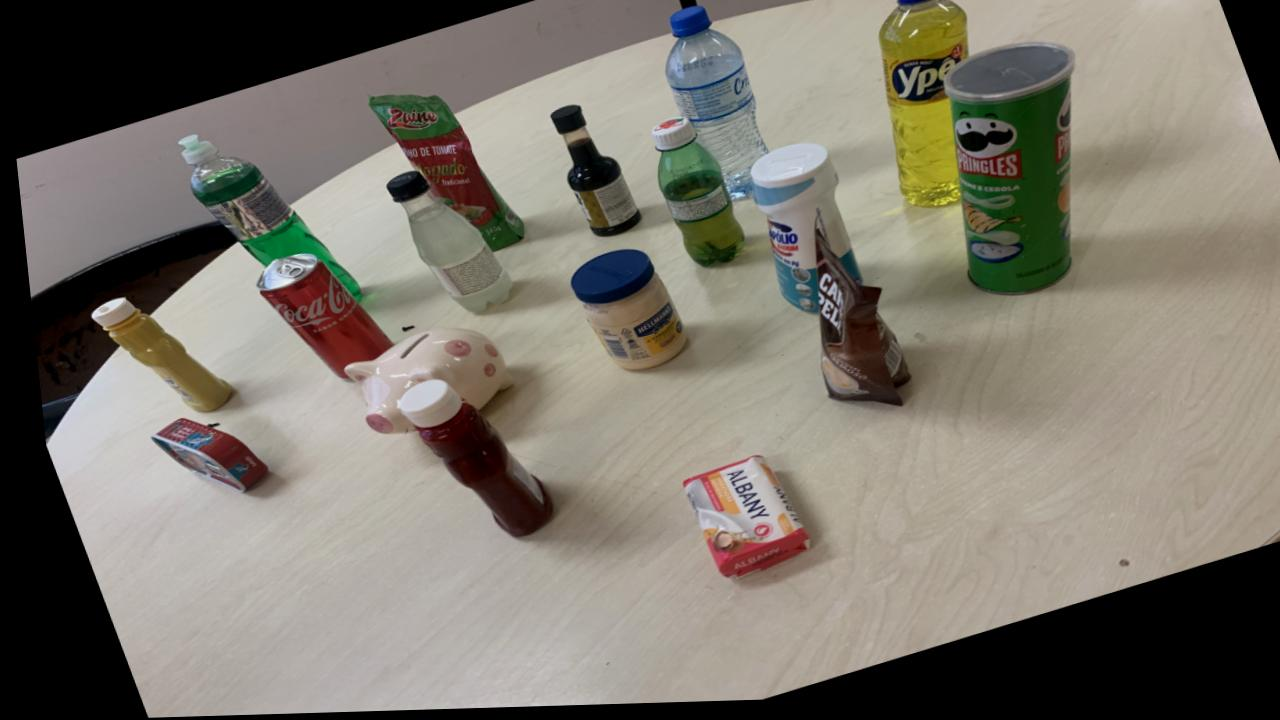Cleaner-Cleanup_Items: (747, 148, 854, 318)
Coffee-Pantry_Items: (809, 237, 902, 411)
Coke-Drinks: (251, 255, 385, 382), (227, 218, 229, 222)
Detergent-Cleanup_Items: (945, 49, 1071, 301), (176, 137, 355, 300), (877, 0, 967, 212)
English_Sauce-Pantry_Items: (560, 129, 636, 240), (551, 109, 578, 129)
Guarana-Drinks: (650, 122, 739, 271), (697, 495, 702, 499), (720, 525, 722, 526)
Ketchup-Pantry_Items: (388, 382, 542, 539)
Mayonnaise-Pantry_Items: (564, 252, 679, 374)
Mustard-Pantry_Items: (85, 298, 224, 412)
Pig_Safe-Miscellaneous: (336, 331, 505, 436)
Pringles-Snacks: (942, 48, 1074, 301)
Soap-Cleanup_Items: (673, 460, 799, 584)
Soda-Drinks: (382, 173, 506, 316)
Tomato_Sauce-Pantry_Items: (366, 97, 519, 253)
Tuna_Can-Pantry_Items: (142, 419, 258, 493)
Water_Bottle-Drinks: (663, 10, 765, 204)
